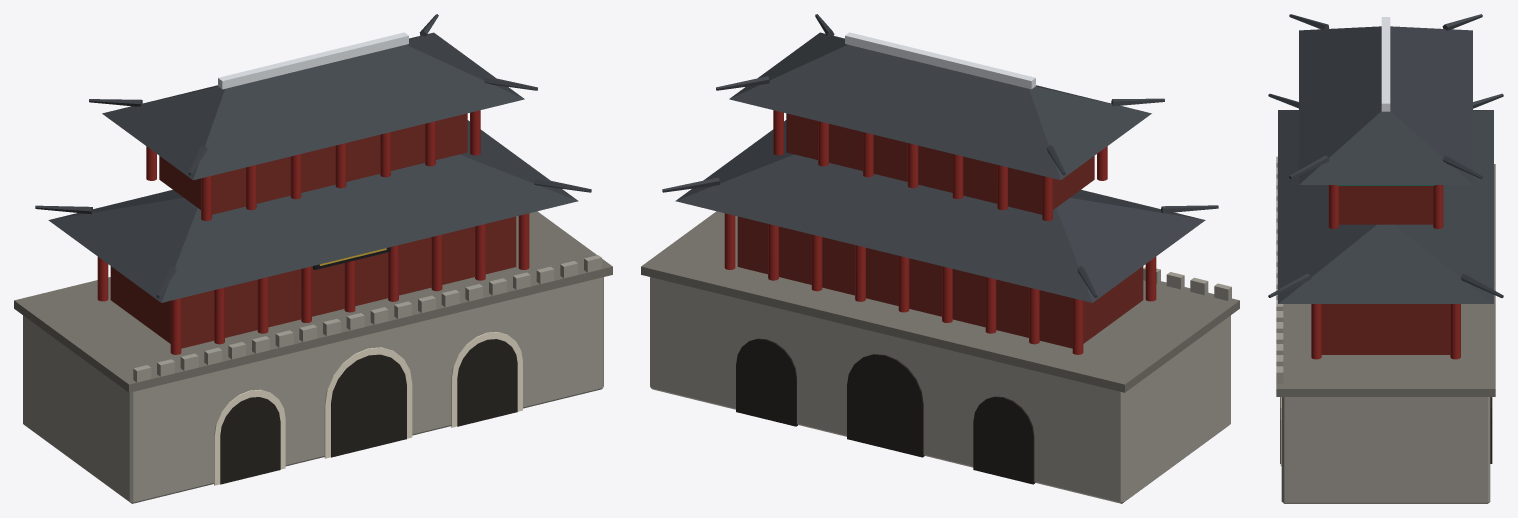
Rendered from palace_gate.glb.
3 views of the same model, side by side, from view 1: azimuth 30°, elevation 25°; view 2: azimuth 150°, elevation 25°; view 3: azimuth 270°, elevation 25° (orthographic). The views are drawn at different scales.
Parts seen in each view (by area): view 1: palace_gate; view 2: palace_gate; view 3: palace_gate.
Boxes of the visible parts, box(x1,y1,x2,y2) form: palace_gate: box(14, 14, 612, 503); palace_gate: box(641, 14, 1239, 503); palace_gate: box(1268, 14, 1503, 503).
Size of the model in its own units: 30.6 by 21.2 by 13.53.
